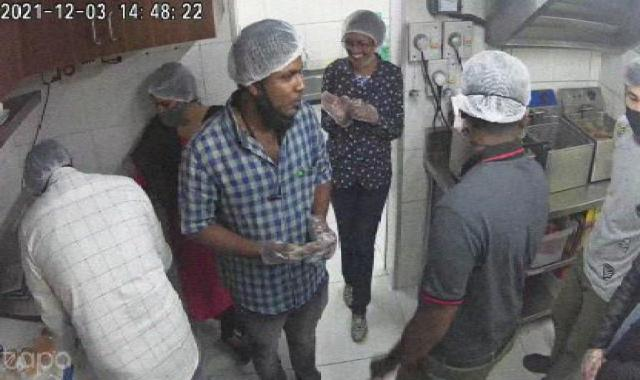hairnet: (440, 46, 539, 125), (223, 18, 304, 99), (334, 6, 403, 68), (139, 59, 205, 118), (21, 134, 76, 200)
